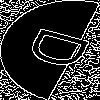D: (24, 25, 100, 76)
